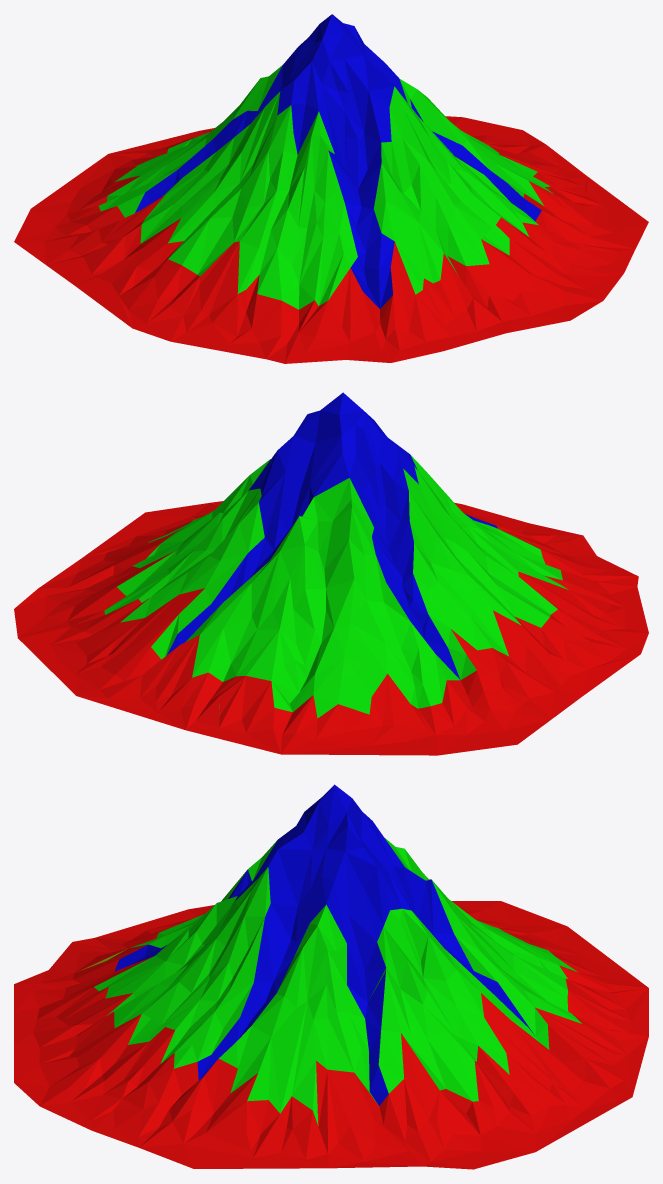
File: Montanha.fbx
The picture shows the model from 3 angles, top to bottom: view 1: azimuth 30°, elevation 25°; view 2: azimuth 150°, elevation 25°; view 3: azimuth 270°, elevation 25°; orthographic projection. The views are drawn at different scales.
Visible parts, largest first — view 1: Montanha; view 2: Montanha; view 3: Montanha.
Boxes of the visible parts, <box> form: Montanha: <box>14,14,648,363</box>; Montanha: <box>14,392,648,755</box>; Montanha: <box>14,784,648,1169</box>.
Bounding box in the file's own units: 5000 × 2155 × 5000.
